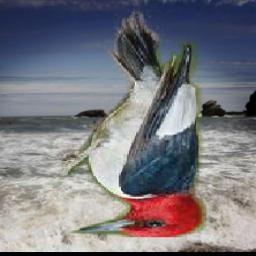Woodpecker: (48, 10, 213, 238)
